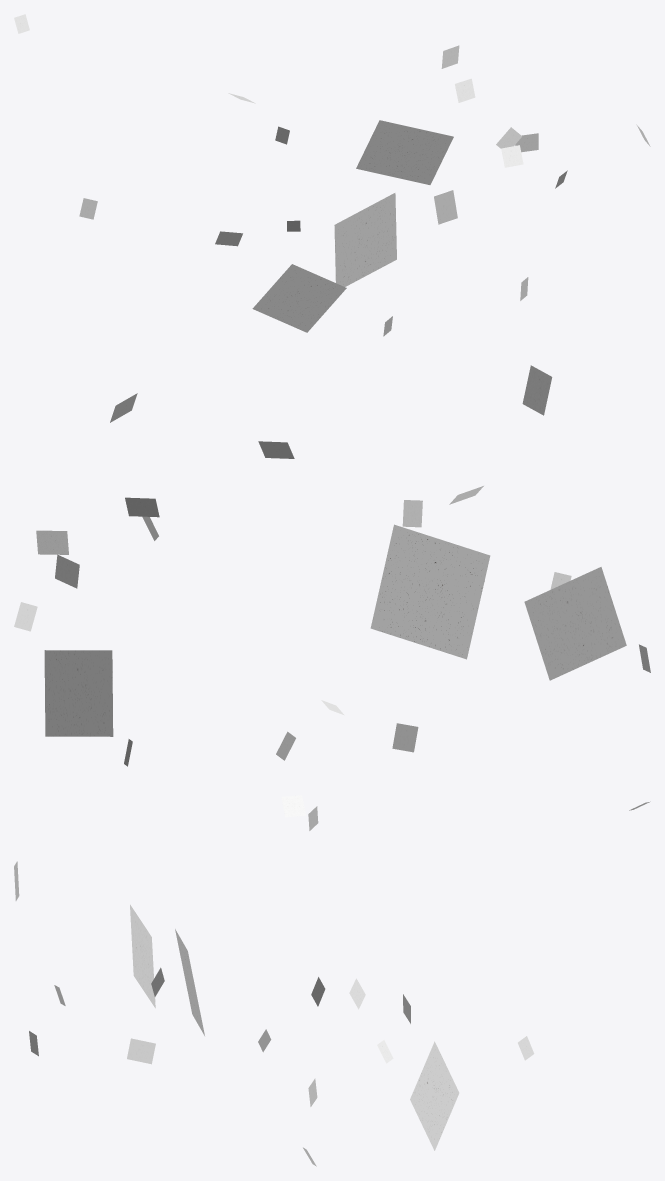
The model's file is dust.gltf.
3 views of the same model, one above another, from view 1: azimuth 30°, elevation 25°; view 2: azimuth 150°, elevation 25°; view 3: azimuth 270°, elevation 25° (orthographic). The views are drawn at different scales.
Visible parts, largest first — view 1: image.039, image.008, image.037, image.033; view 2: image.039, image.037, image.008, image.033, image.028, image.031, image.041, image.036; view 3: image.008, image.037, image.039, image.023.
Part boxes in pixels (x1,y1,x2,y2): image.039: (334, 193, 396, 286); image.008: (356, 120, 453, 184); image.037: (252, 264, 346, 332); image.033: (434, 190, 457, 224); image.039: (370, 524, 490, 659); image.037: (524, 567, 626, 680); image.008: (44, 650, 113, 736); image.033: (522, 365, 552, 415); image.028: (36, 530, 68, 554); image.031: (392, 723, 418, 752); image.041: (125, 497, 159, 517); image.036: (55, 554, 79, 588); image.008: (410, 1041, 459, 1150); image.037: (130, 904, 155, 1008); image.039: (175, 929, 204, 1035); image.023: (127, 1038, 155, 1064).
Bounding box in the file's own units: 28.66 × 11.35 × 30.13.
1 material, 1 textured.
